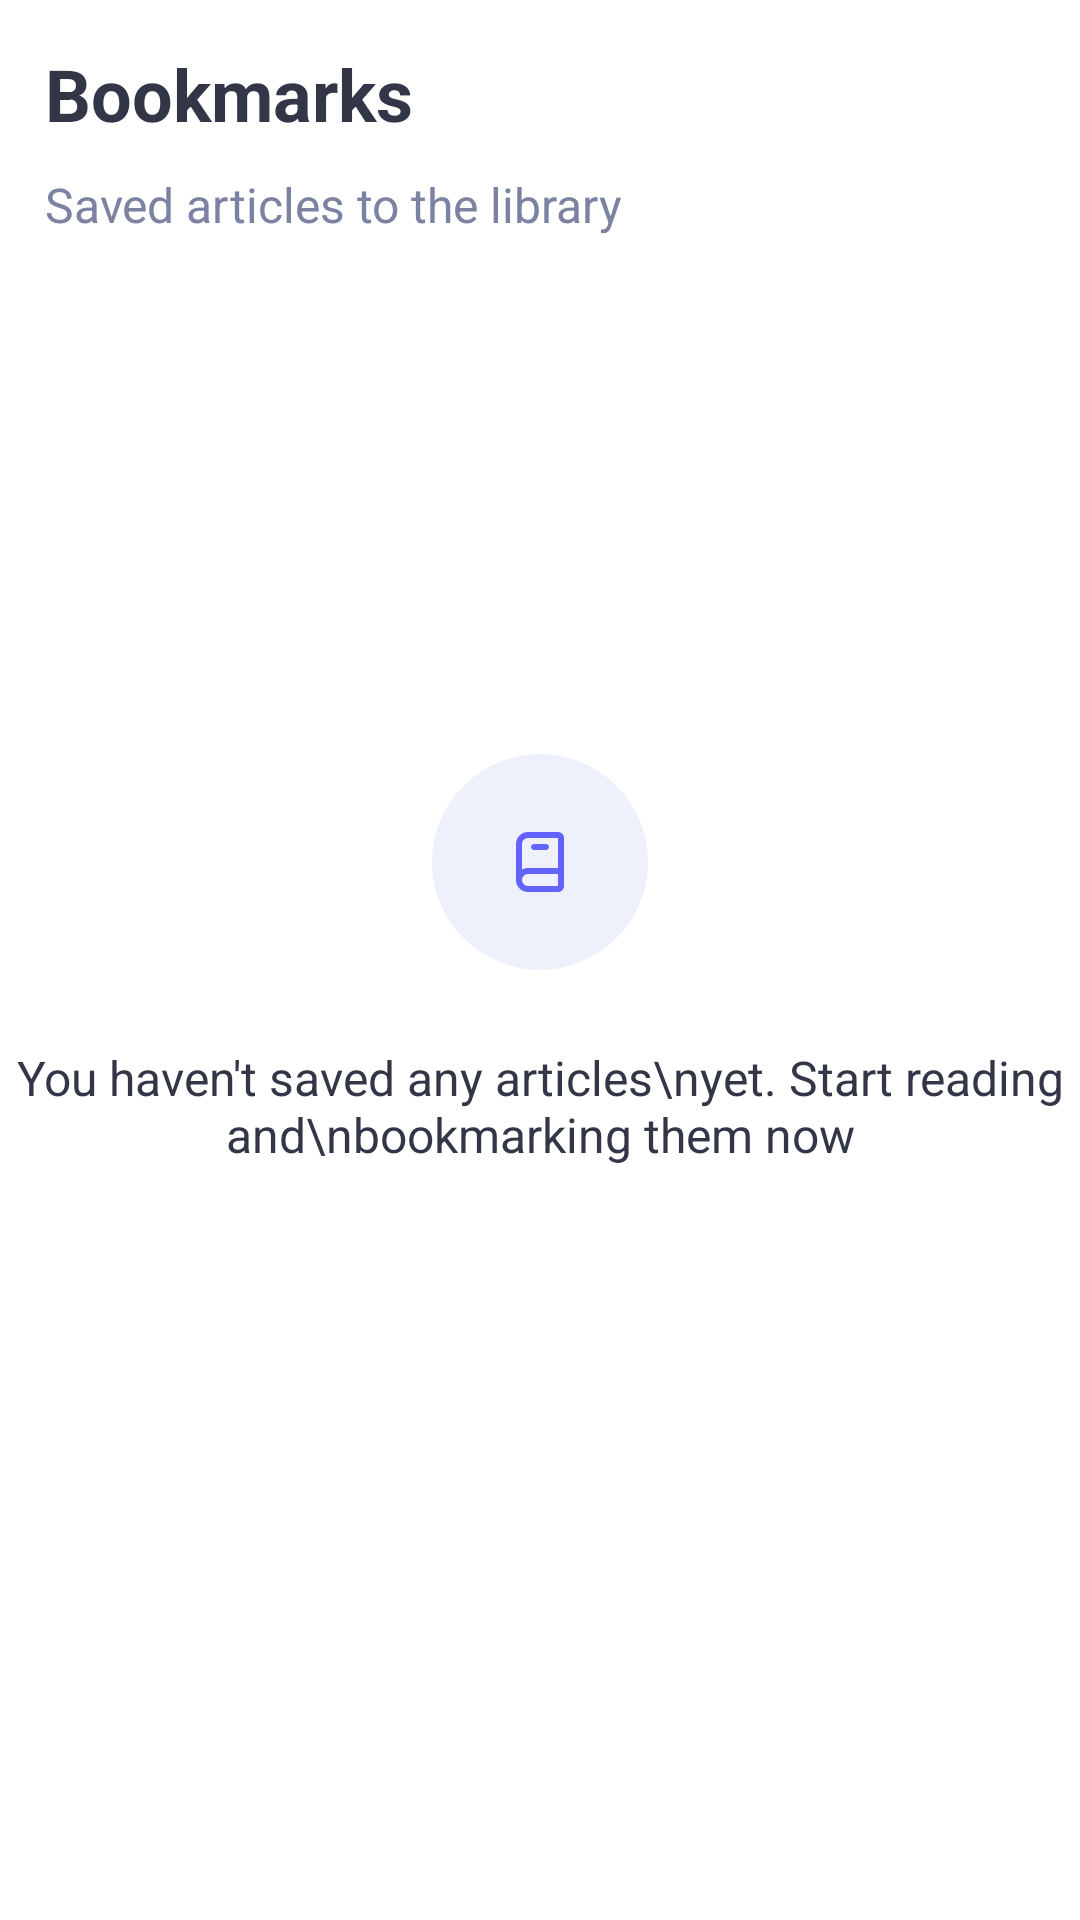

Icon click points for this 1080 x 1920 phone screenshot, format (x=x, y=y):
book: (x=540, y=862)
